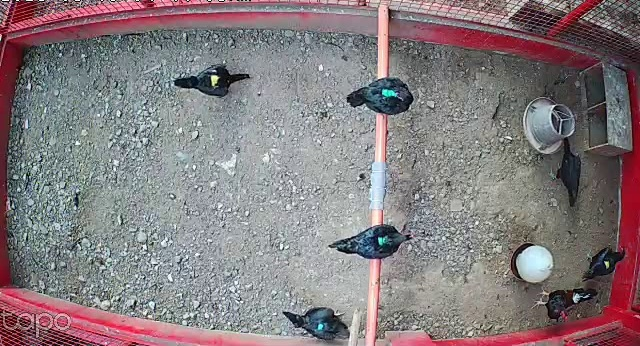Chicken: (341, 70, 424, 122), (329, 221, 417, 261), (275, 300, 352, 345), (174, 59, 251, 101), (547, 135, 584, 206), (583, 243, 627, 282)
Rooster: (528, 281, 604, 327)
Saddle_Color_Blue: (318, 324, 326, 330)
Saddle_Color_Yellow: (210, 73, 222, 89), (603, 260, 610, 270)
